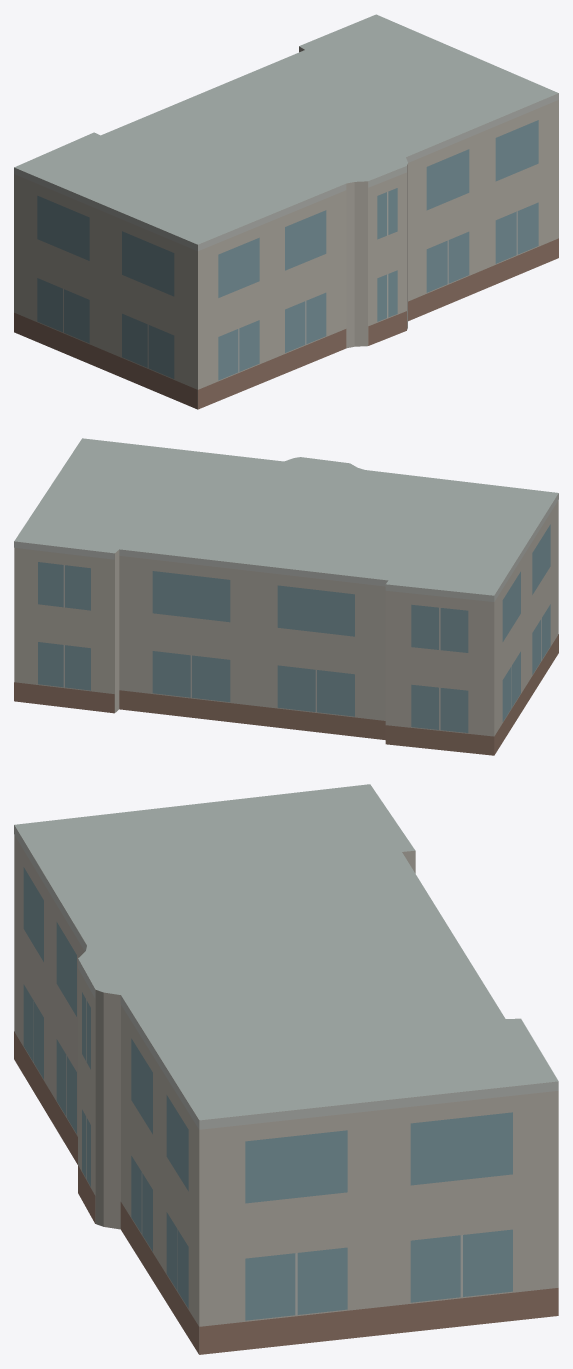
File: survey-upis-33008251.glb
The picture shows the model from 3 angles, top to bottom: view 1: azimuth 30°, elevation 25°; view 2: azimuth 150°, elevation 25°; view 3: azimuth 270°, elevation 25°; orthographic projection. The views are drawn at different scales.
Parts seen in each view (by area): view 1: survey-upis-33008251.tmp; view 2: survey-upis-33008251.tmp; view 3: survey-upis-33008251.tmp.
Boxes of the visible parts, left/top/right/bottom form: survey-upis-33008251.tmp: left=14, top=14, right=558, bottom=409; survey-upis-33008251.tmp: left=14, top=438, right=558, bottom=755; survey-upis-33008251.tmp: left=14, top=784, right=558, bottom=1354.
Size of the model in its own units: 18.78 by 6.1 by 12.86.
